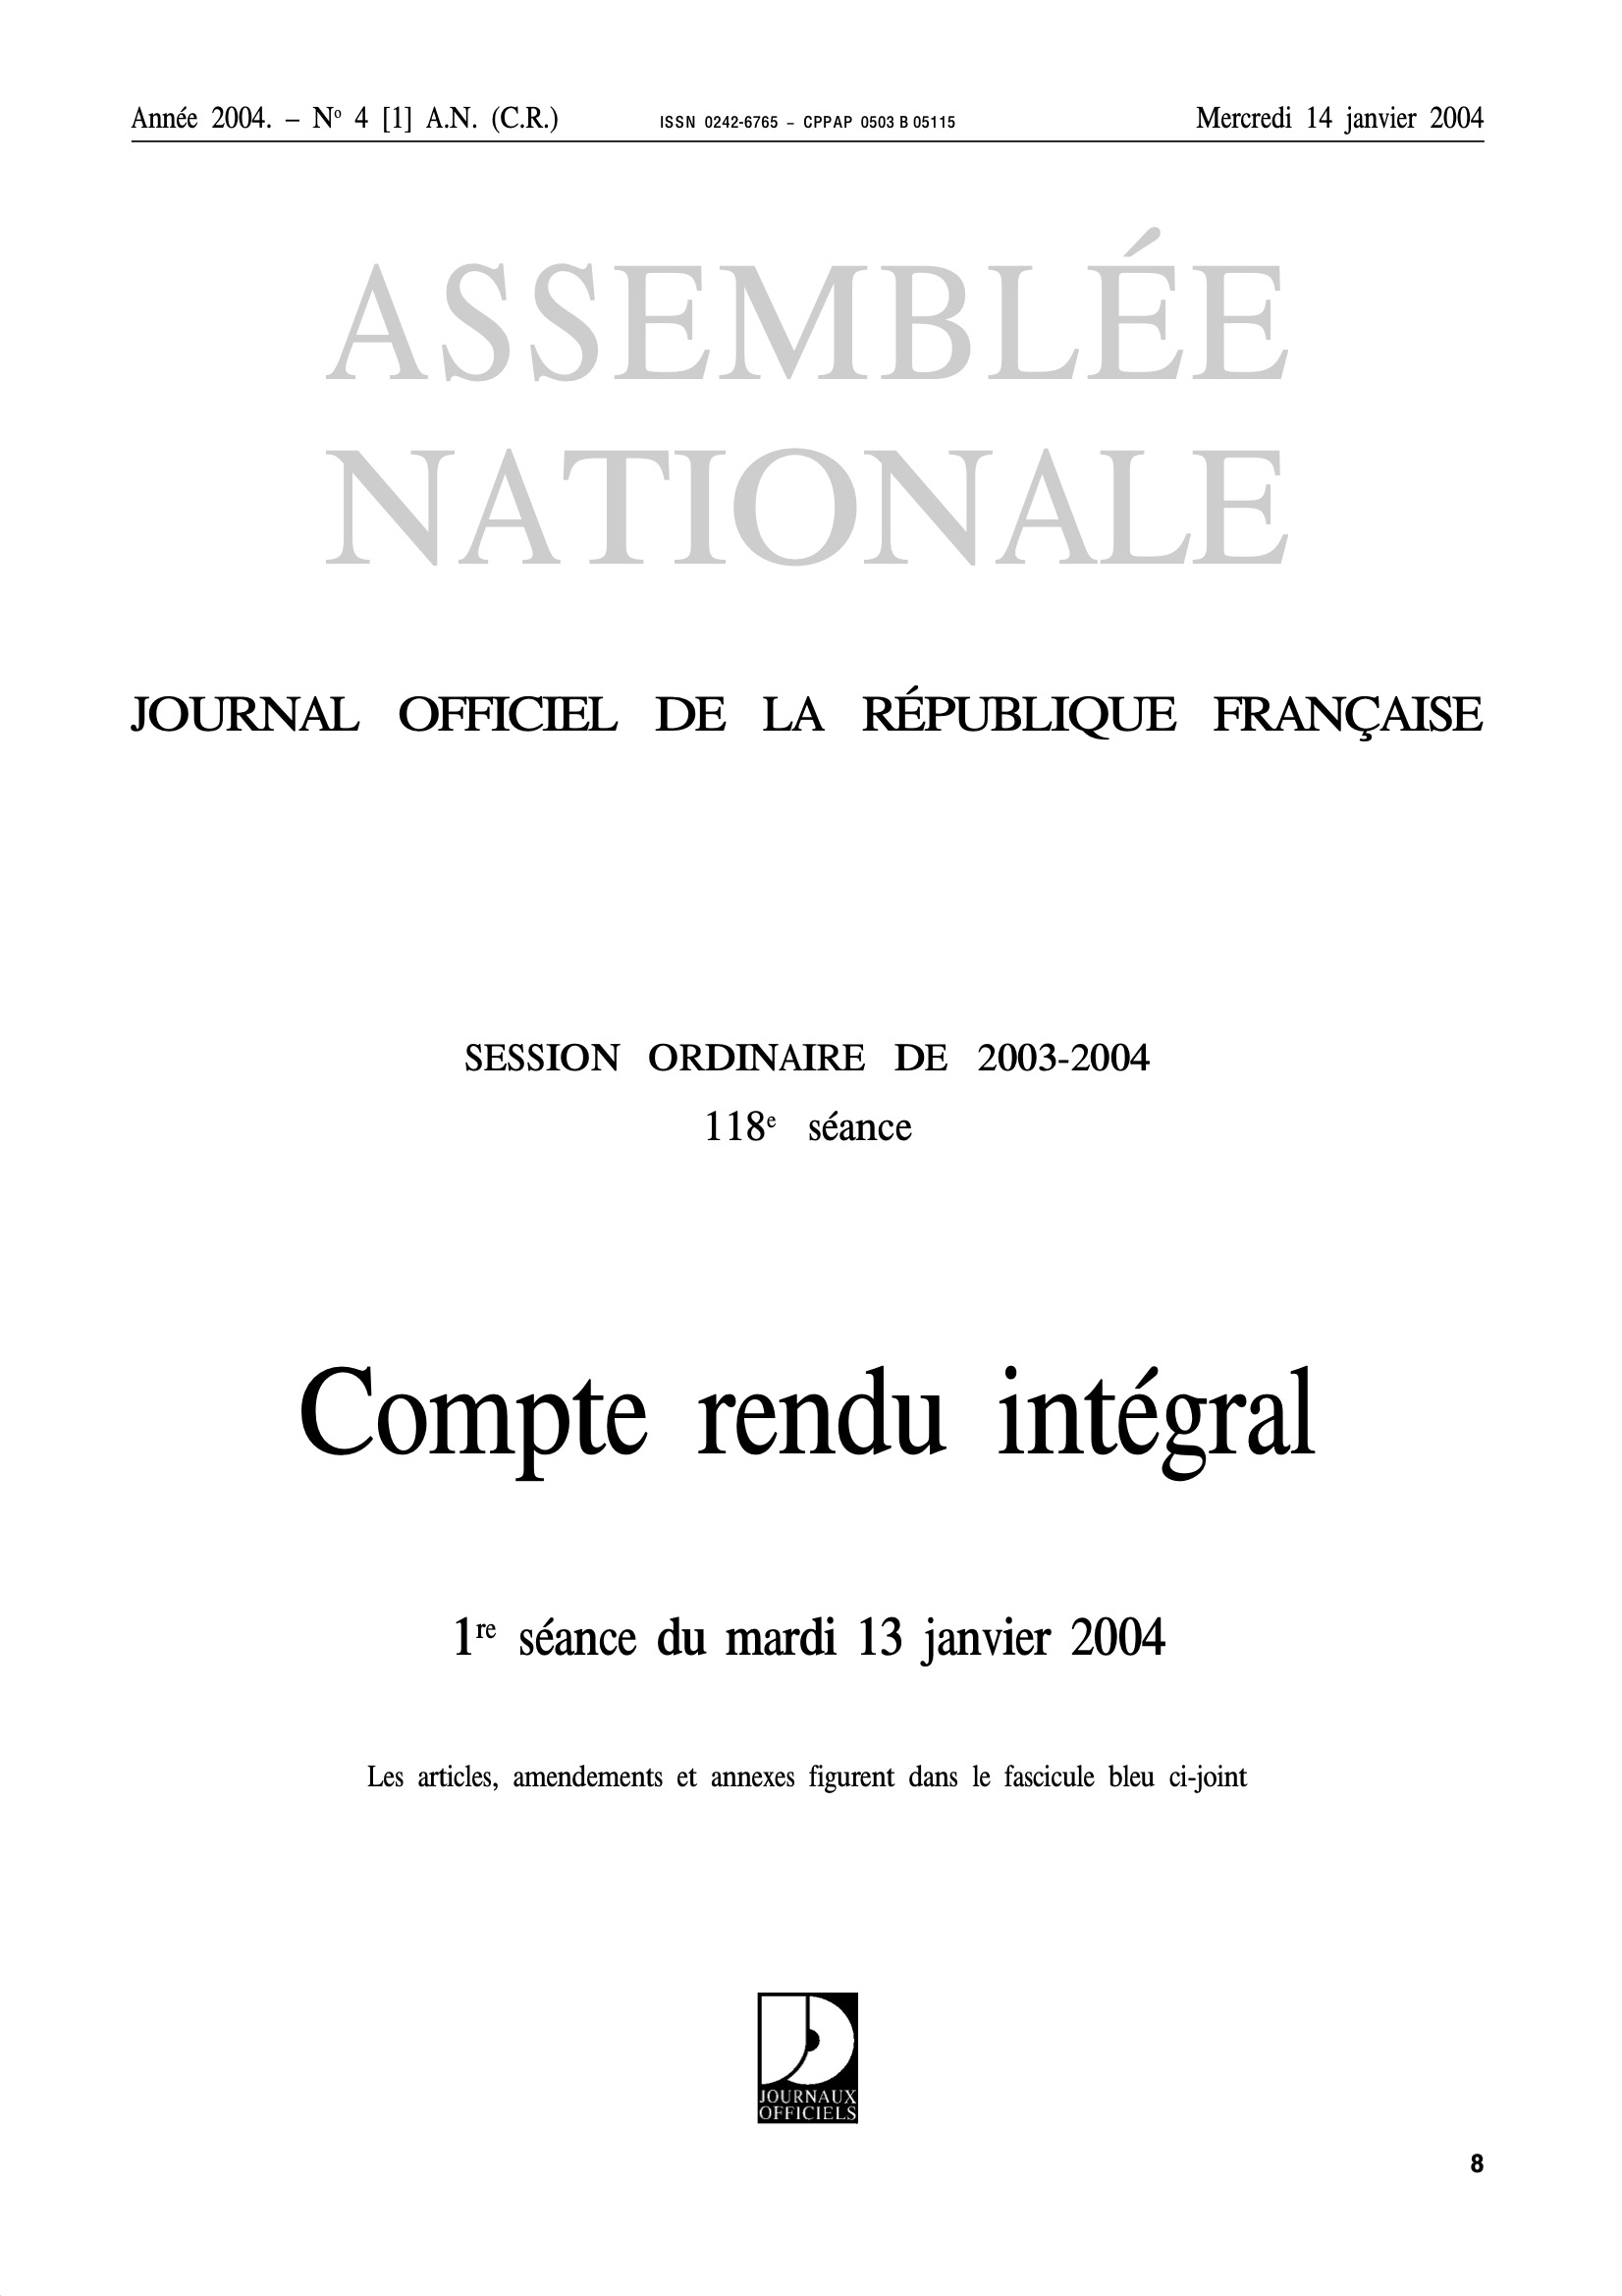MainZone-Date: (1180, 93, 1494, 142)
RunningTitleZone: (121, 91, 571, 142), (650, 105, 965, 144)
TitlePageZone: (109, 249, 1527, 2296)
